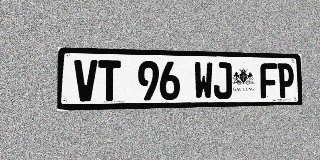6: (160, 61, 180, 100)
9: (138, 61, 159, 100)
F: (260, 63, 277, 98)
J: (213, 62, 232, 99)
P: (277, 63, 294, 98)
T: (98, 60, 121, 101)
V: (74, 60, 97, 102)
W: (194, 62, 213, 99)
